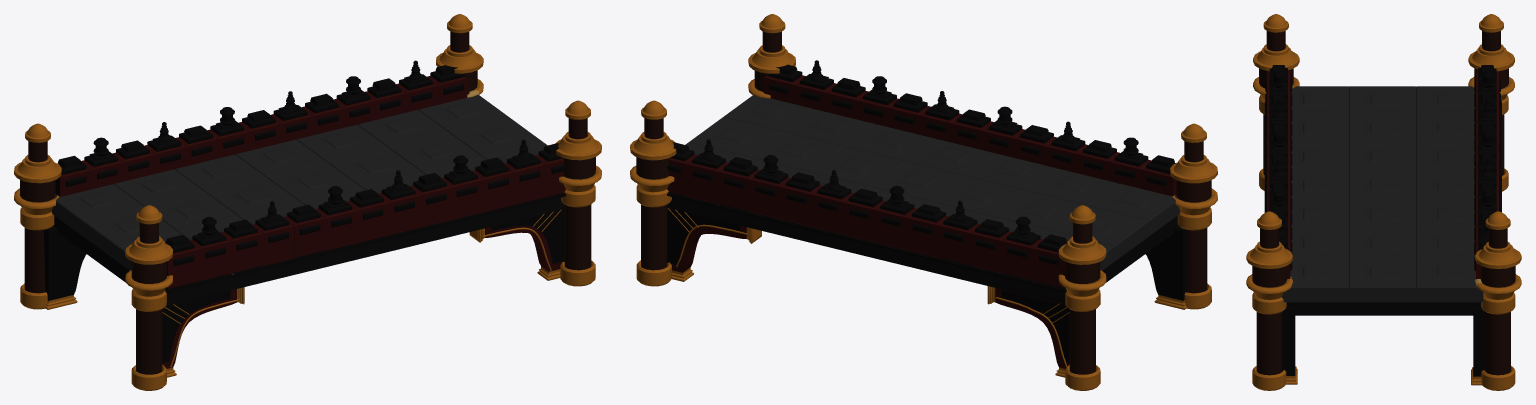
3 renders of one model, left to right at view 1: azimuth 30°, elevation 25°; view 2: azimuth 150°, elevation 25°; view 3: azimuth 270°, elevation 25°, orthographic. The views are drawn at different scales.
Parts seen in each view (by area): view 1: Cylinder001, Cylinder037, Juntura, Juntura003, Box058, Juntura001, Cylinder034, Box093, Box087, Box099, Cylinder039, Box161 (+46 smaller); view 2: Cylinder034, Juntura002, Cylinder071, Juntura001, Juntura003, Box060, Cylinder037, Box161, Box099, Cylinder036, Box093, Box087 (+46 smaller); view 3: Box099, Box098, Box100, Cylinder001, Cylinder071, Box090, Box087, Cylinder073, Box084, Box093, Box096, Box161 (+46 smaller).
Boxes of the visible parts, x1,y1,x2,y2 form: Cylinder001: [560, 185, 595, 286]; Cylinder037: [131, 289, 166, 390]; Juntura: [469, 209, 564, 280]; Juntura003: [43, 225, 86, 309]; Box058: [51, 184, 143, 236]; Juntura001: [162, 287, 244, 377]; Cylinder034: [20, 208, 54, 309]; Box093: [328, 147, 422, 187]; Box087: [206, 177, 300, 217]; Box099: [450, 118, 544, 158]; Cylinder039: [125, 239, 172, 296]; Box161: [84, 207, 178, 262]; Cylinder034: [1065, 289, 1100, 390]; Juntura002: [667, 208, 761, 281]; Cylinder071: [636, 185, 671, 286]; Juntura001: [1145, 226, 1188, 309]; Juntura003: [987, 286, 1069, 377]; Box060: [1089, 183, 1180, 235]; Cylinder037: [1177, 208, 1211, 309]; Box161: [1054, 206, 1149, 261]; Box099: [689, 117, 783, 157]; Cylinder036: [1058, 239, 1106, 296]; Box093: [811, 146, 905, 186]; Box087: [933, 176, 1026, 216]; Box099: [1349, 258, 1415, 302]; Box098: [1416, 258, 1483, 302]; Box100: [1282, 258, 1348, 302]; Cylinder001: [1252, 292, 1286, 390]; Cylinder071: [1481, 293, 1515, 390]; Box090: [1349, 172, 1415, 201]; Box087: [1349, 143, 1415, 172]; Cylinder073: [1475, 245, 1521, 299]; Box084: [1349, 115, 1415, 143]; Box093: [1349, 201, 1415, 229]; Box096: [1349, 230, 1415, 258]; Box161: [1349, 86, 1415, 114].
Bounding box in the file's own units: 2019 × 750 × 1066.
